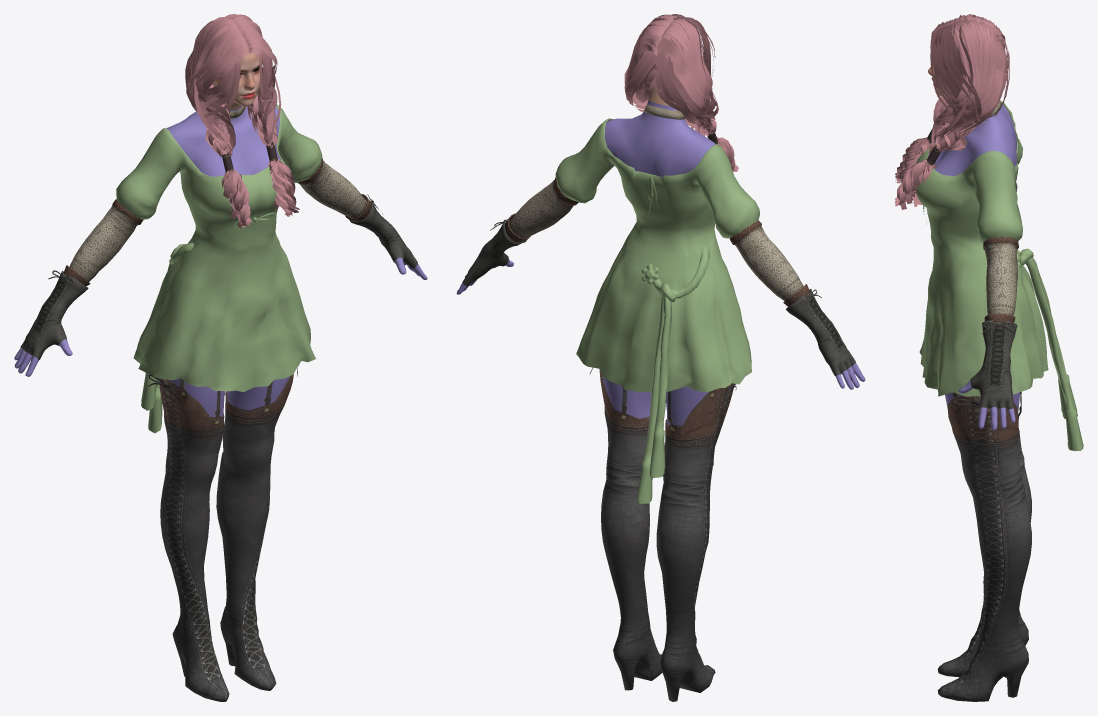
The model's file is tiphaine.obj.
3 views of the same model, side by side, from view 1: azimuth 30°, elevation 25°; view 2: azimuth 150°, elevation 25°; view 3: azimuth 270°, elevation 25° (orthographic).
Visible parts, largest first — view 1: 25_dress_1_0_0, 24_boot_1_0_0, 27_hair_0.2_0_0, 24_glov_1_0_0, 24_body_1_0_0, 24_face_1_0_0; view 2: 25_dress_1_0_0, 24_boot_1_0_0, 24_glov_1_0_0, 27_hair_0.2_0_0, 24_body_1_0_0; view 3: 25_dress_1_0_0, 24_boot_1_0_0, 27_hair_0.2_0_0, 24_glov_1_0_0, 24_body_1_0_0.
Boxes of the visible parts, x1=… form: 25_dress_1_0_0: x1=116, y1=104, x2=322, y2=433; 24_boot_1_0_0: x1=148, y1=365, x2=298, y2=701; 27_hair_0.2_0_0: x1=185, y1=14, x2=299, y2=228; 24_glov_1_0_0: x1=20, y1=158, x2=417, y2=359; 24_body_1_0_0: x1=14, y1=105, x2=427, y2=416; 24_face_1_0_0: x1=212, y1=52, x2=262, y2=109; 25_dress_1_0_0: x1=555, y1=118, x2=759, y2=503; 24_boot_1_0_0: x1=589, y1=368, x2=736, y2=701; 24_glov_1_0_0: x1=462, y1=177, x2=855, y2=375; 27_hair_0.2_0_0: x1=624, y1=14, x2=738, y2=171; 24_body_1_0_0: x1=456, y1=99, x2=865, y2=425; 25_dress_1_0_0: x1=916, y1=100, x2=1083, y2=451; 24_boot_1_0_0: x1=937, y1=391, x2=1031, y2=701; 27_hair_0.2_0_0: x1=894, y1=14, x2=1009, y2=209; 24_glov_1_0_0: x1=970, y1=172, x2=1018, y2=409; 24_body_1_0_0: x1=928, y1=104, x2=1020, y2=430.
Bounding box in the file's own units: 1.32 × 2.09 × 0.5379.
